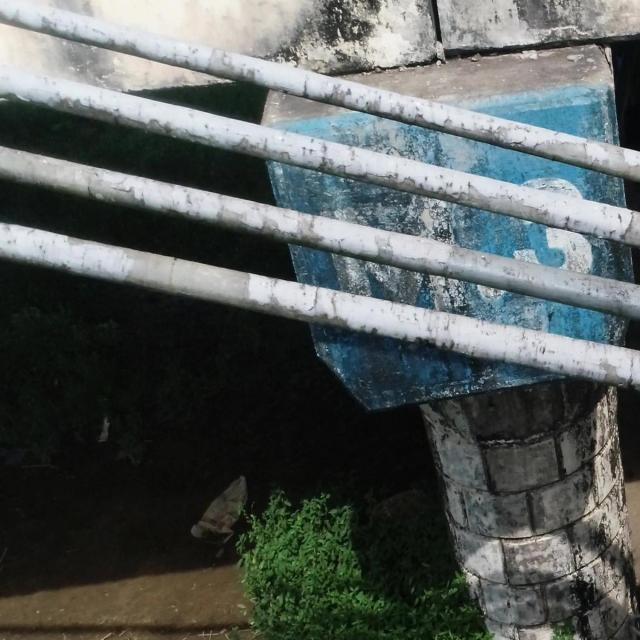crack: (309, 285, 319, 312), (86, 179, 95, 200), (170, 257, 177, 284), (331, 292, 337, 316), (629, 357, 634, 382), (334, 238, 344, 250), (562, 215, 570, 229), (446, 313, 450, 330), (304, 81, 308, 97), (609, 230, 616, 238), (592, 227, 598, 235)
